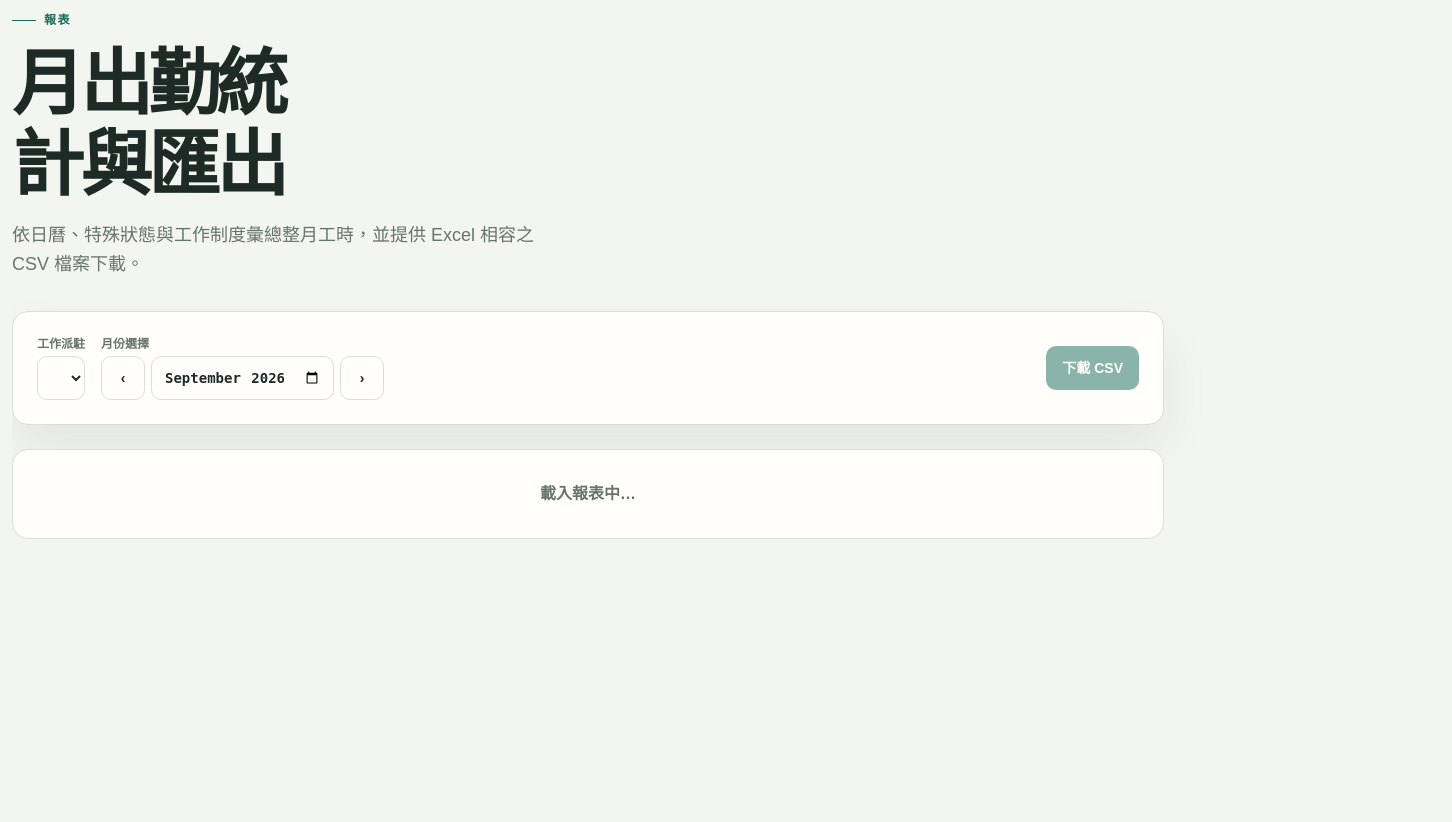
ReportView › 切換 Work Assignment 時重新 query 並呈現新派駐制度與資料
Replace the text in the field with test id "month-input" with "2025-08" at point(242, 378), box [151,356,334,400]
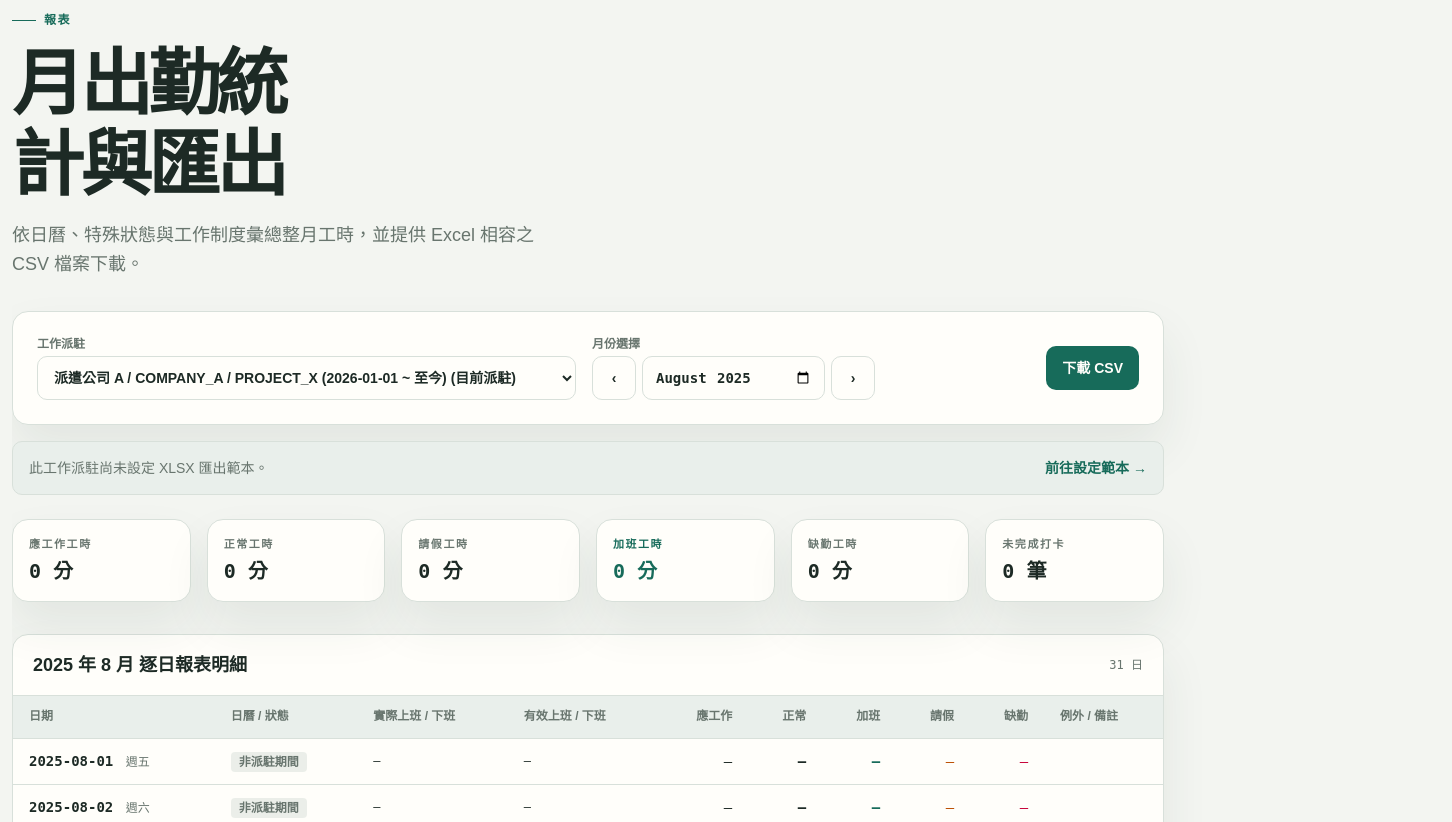
# Switch assignment to assign-2 (effective 2025-01-01 ~ 2025-12-31)
Select "派遣公司 B / COMPANY_B / PROJECT_Y (2025-01-01 ~ 2025-12-31) (已結束)" in the dropdown with test id "assignment-select" at point(306, 378), box [37,356,576,400]
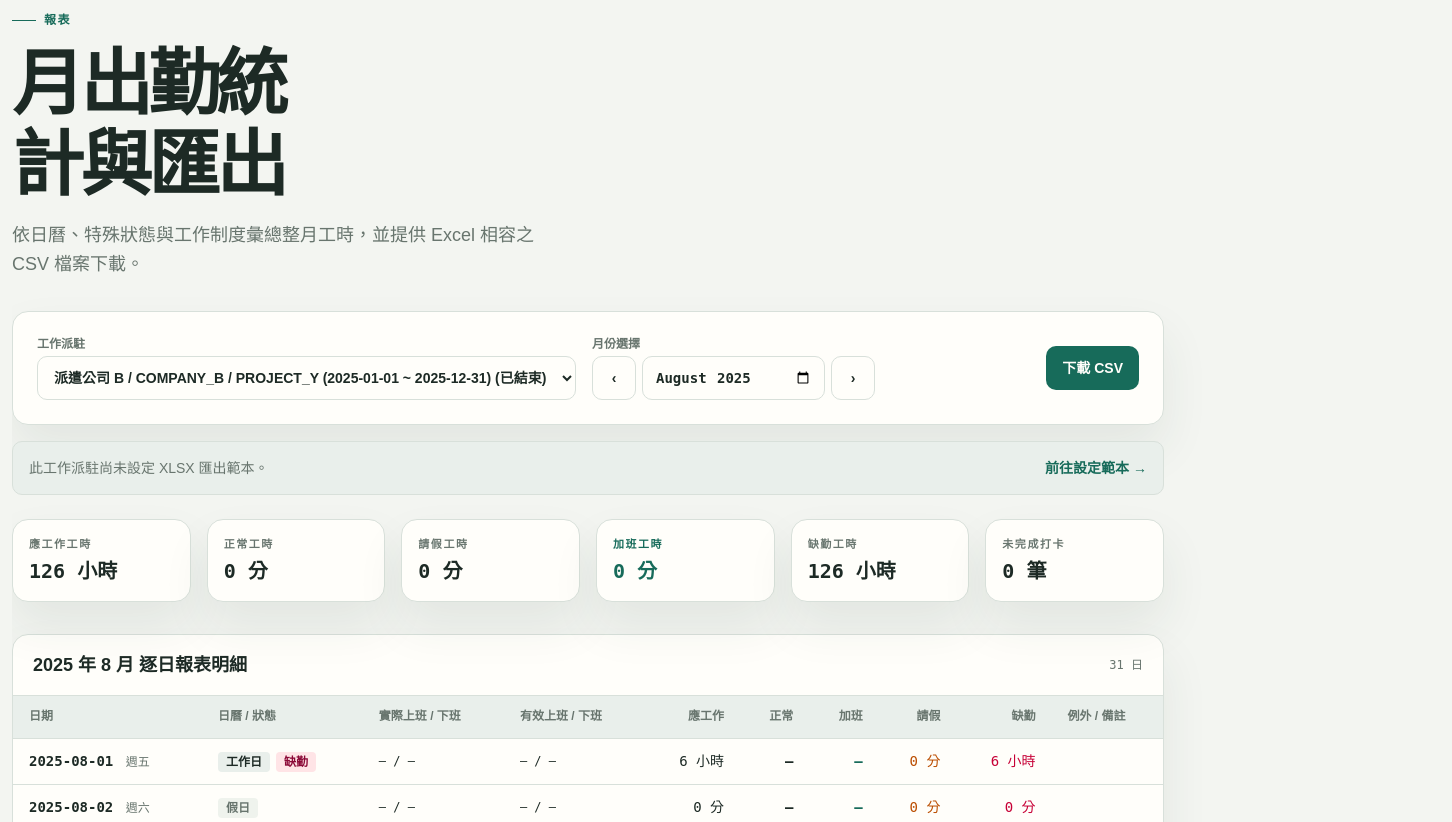
Now the element with test id "summary-scheduled" shows "126 小時", box [29,559,117,583]
